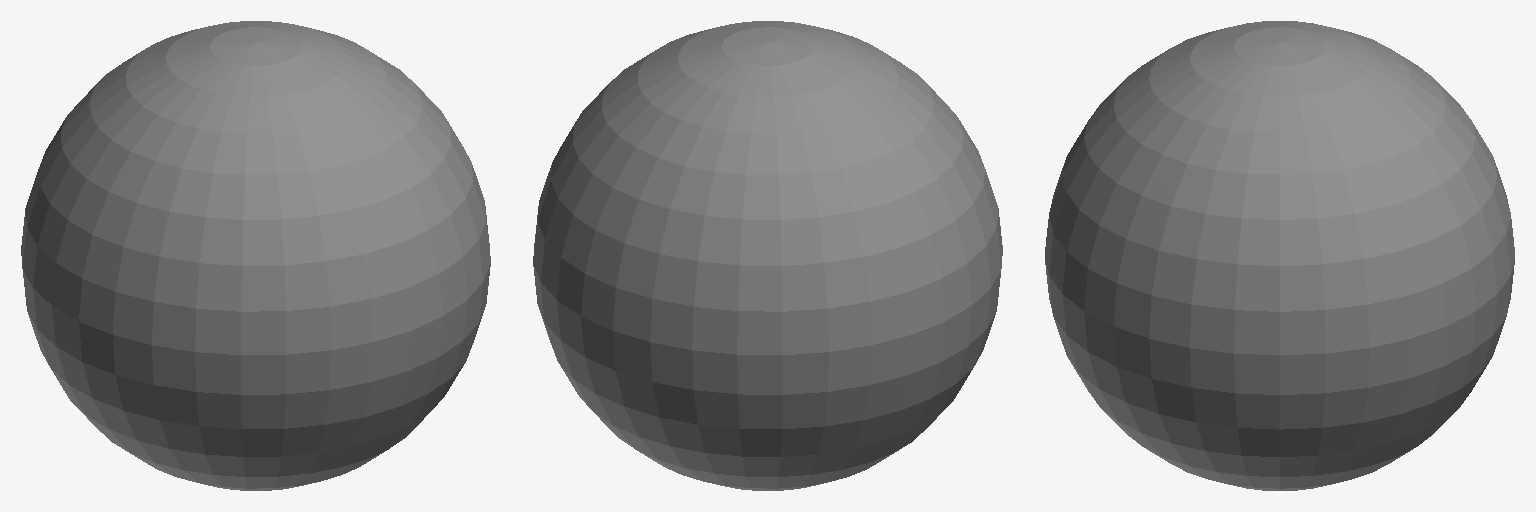
Rendered from Sol.obj.
3 views of the same model, side by side, from view 1: azimuth 30°, elevation 25°; view 2: azimuth 150°, elevation 25°; view 3: azimuth 270°, elevation 25° (orthographic).
Parts seen in each view (by area): view 1: Sphere001; view 2: Sphere001; view 3: Sphere001.
Part boxes in pixels (x1,y1,x2,y2): Sphere001: (21, 21, 490, 490); Sphere001: (533, 21, 1002, 490); Sphere001: (1045, 21, 1514, 490).
Bounding box in the file's own units: 4.26 × 4.26 × 4.26.